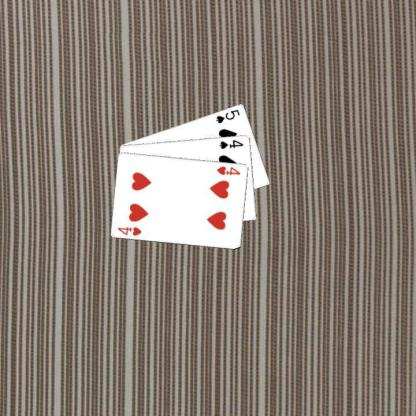4H: (116, 223, 142, 237), (214, 164, 242, 176)
4S: (218, 137, 245, 150)
5S: (214, 107, 241, 124)
